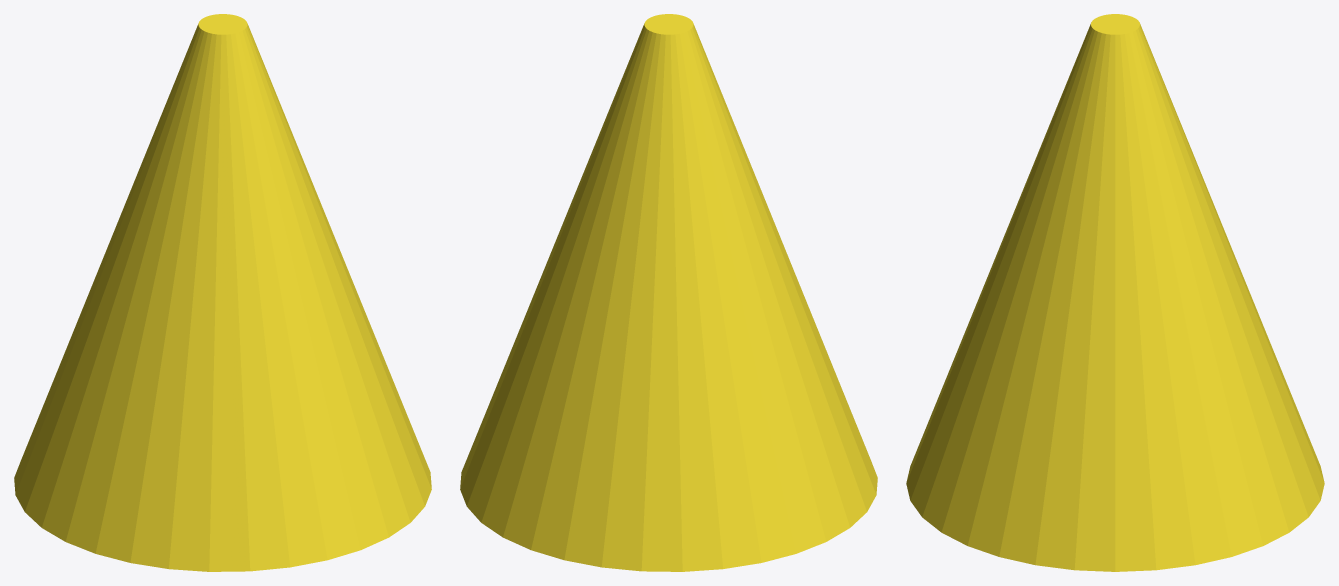
Rendered from luzposte.glb.
3 renders of one model, left to right at view 1: azimuth 30°, elevation 25°; view 2: azimuth 150°, elevation 25°; view 3: azimuth 270°, elevation 25°, orthographic.
Visible parts, largest first — view 1: Cilindro; view 2: Cilindro; view 3: Cilindro.
Part boxes in pixels (x1,y1,x2,y2): Cilindro: [14, 14, 431, 571]; Cilindro: [460, 14, 877, 571]; Cilindro: [906, 14, 1324, 571].
Bounding box in the file's own units: 17 × 20.57 × 17.
